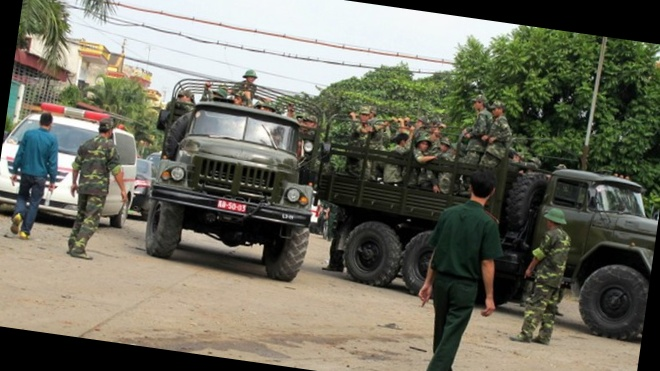plate: (215, 196, 247, 215)
